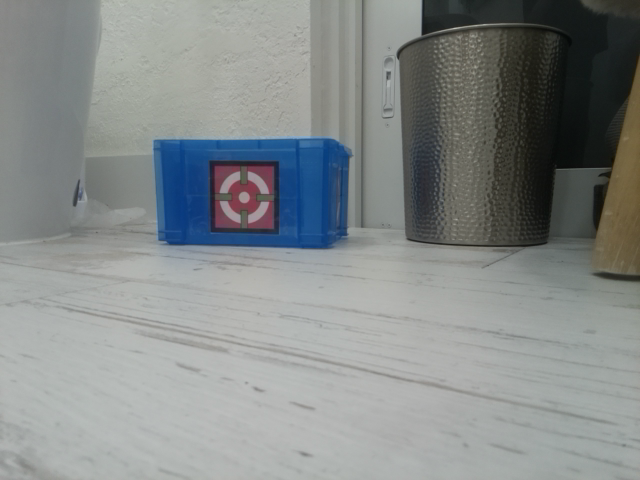drop-bin: (209, 160, 279, 234)
